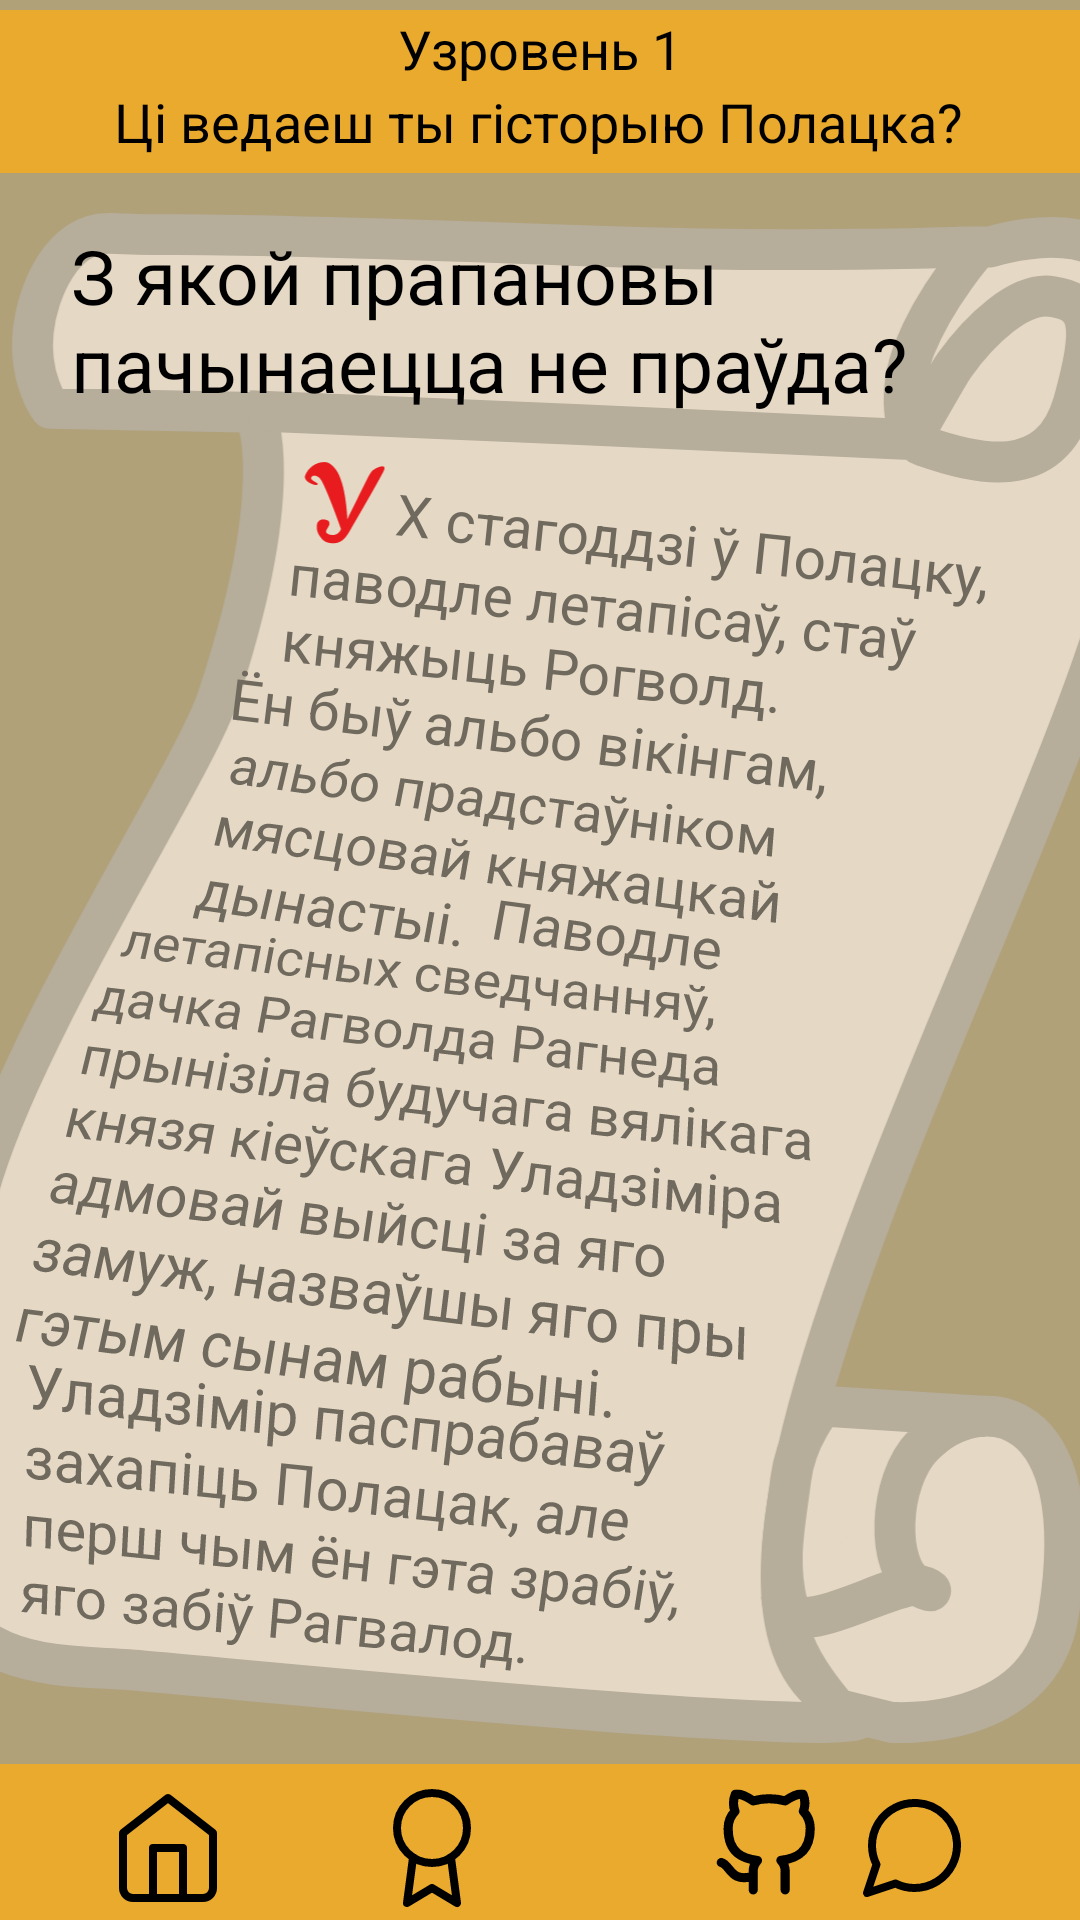

Where icons sit on this 1080w x 1920h app screen, as (x1, y1, x2, y2):
award: (393, 1789, 471, 1908)
home: (119, 1794, 217, 1902)
message circle: (863, 1799, 961, 1897)
